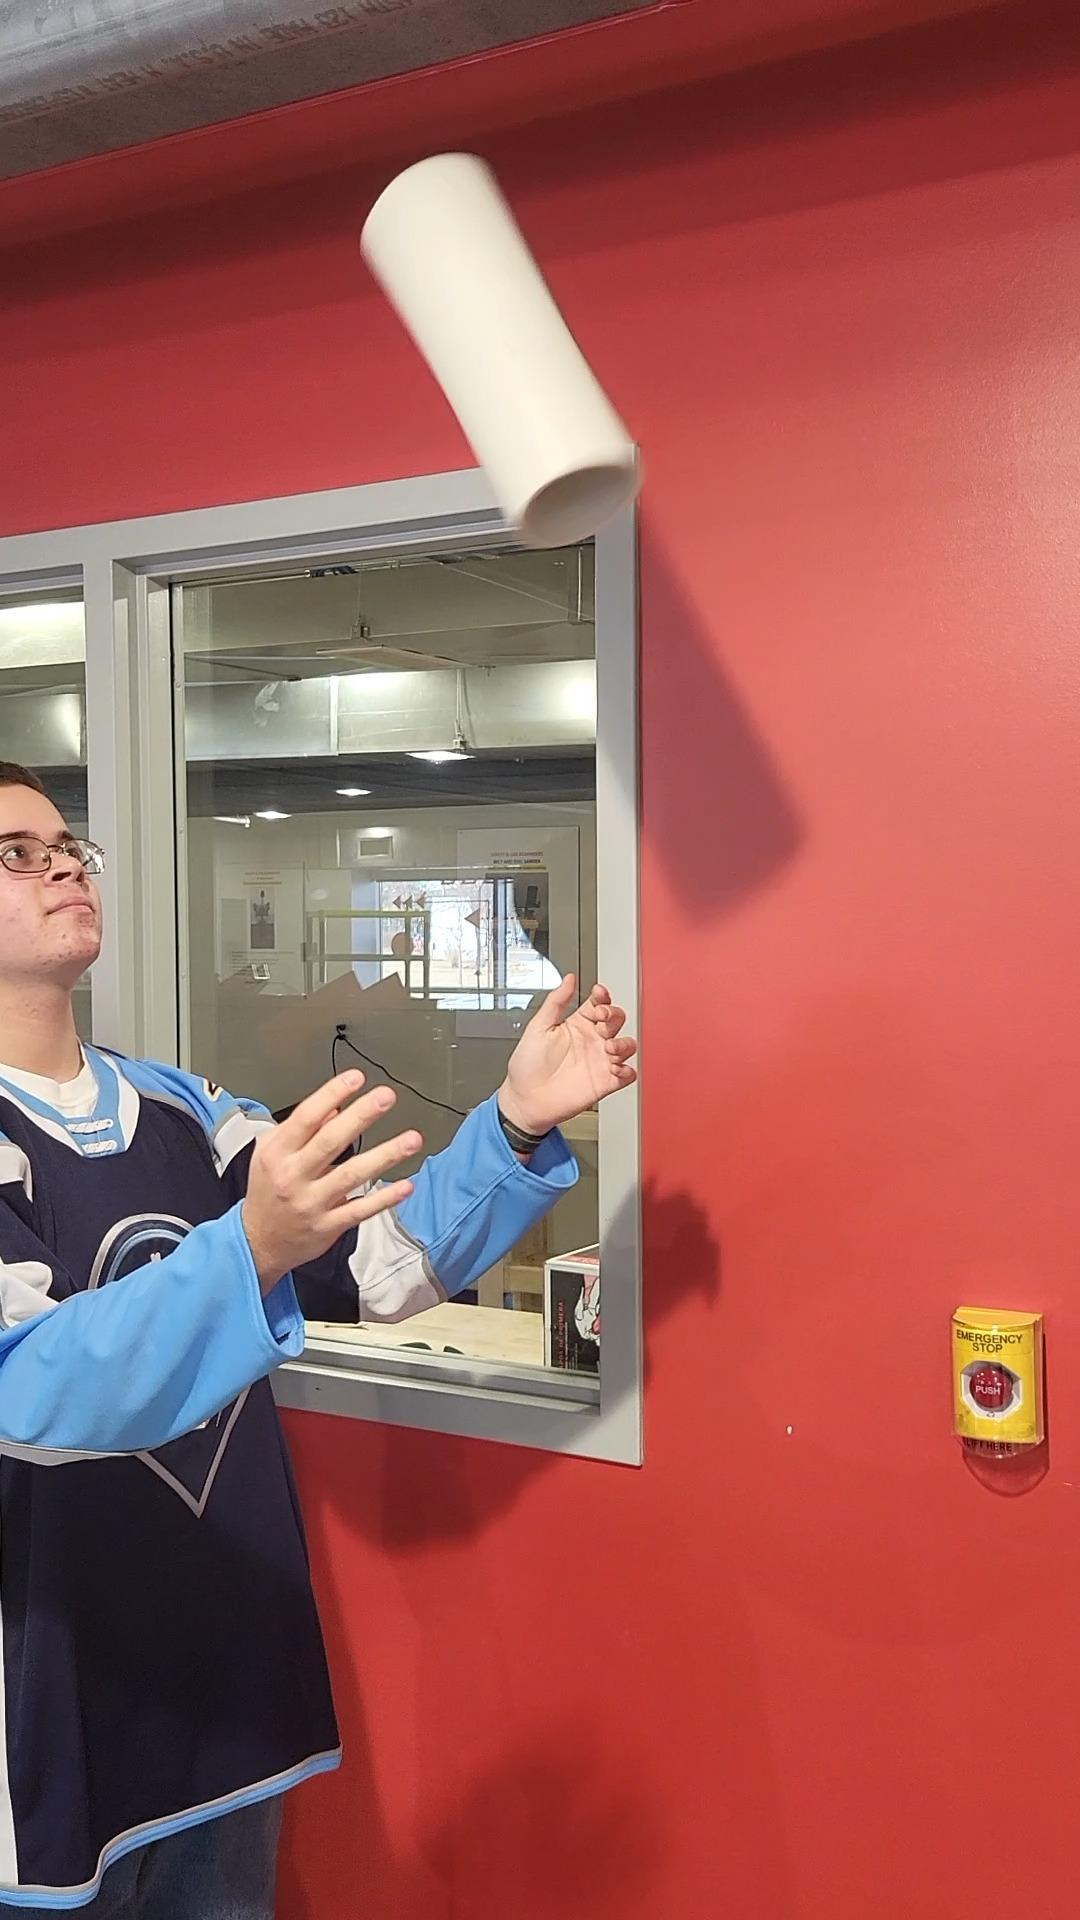coral: (353, 144, 661, 556)
